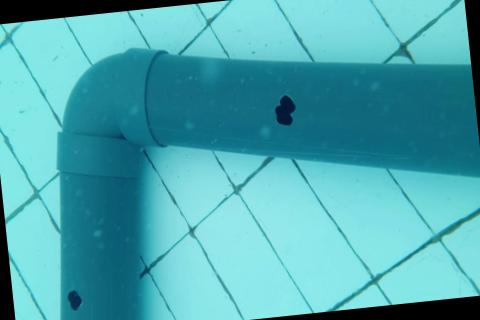kebocoran: (271, 92, 296, 128), (66, 288, 83, 311)
